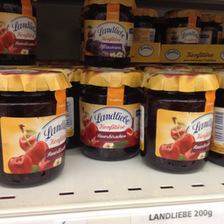jam: (1, 70, 69, 189), (141, 73, 219, 174), (79, 69, 141, 162), (82, 1, 135, 68), (1, 1, 39, 65)
